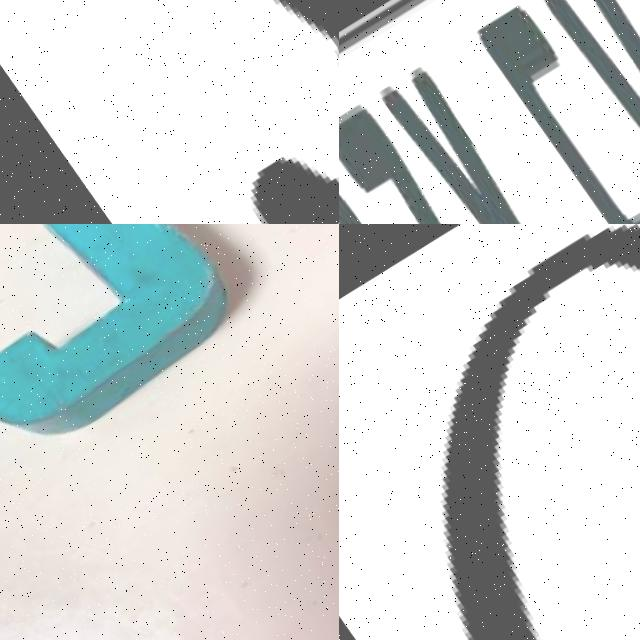F: (454, 0, 640, 224)
J: (0, 224, 260, 466)
O: (427, 224, 640, 640)
R: (339, 128, 618, 224)
V: (524, 0, 640, 224)
Y: (0, 0, 339, 224), (356, 44, 640, 224)
Z: (339, 85, 640, 224)
